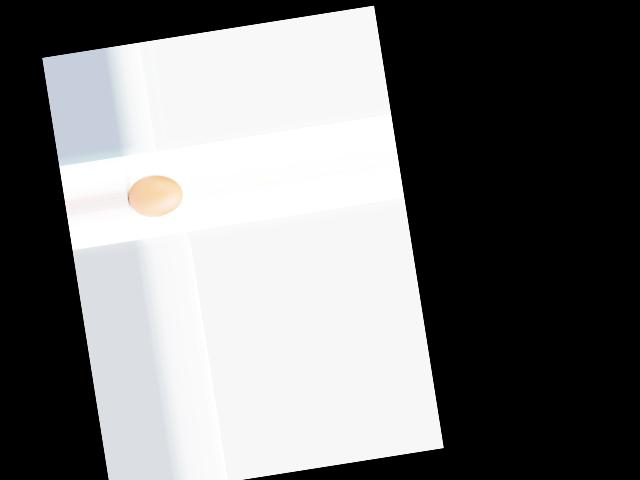egg: (125, 171, 184, 220)
